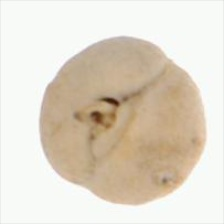L3: (74, 94, 124, 154)
L4: (39, 35, 208, 205)
